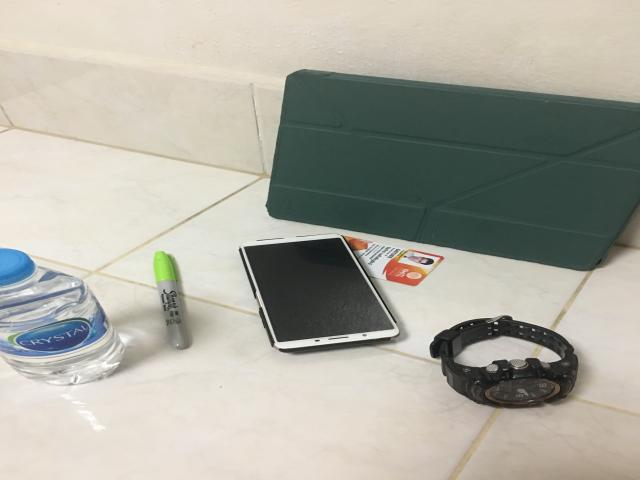Mobile phone: (237, 233, 402, 353)
Pen: (152, 252, 194, 352)
Watch: (429, 317, 580, 410)
bottle: (0, 248, 128, 390)
